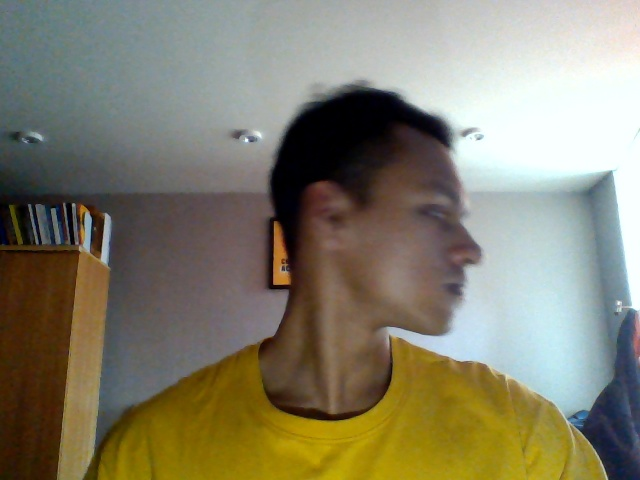no_mask: (358, 229, 485, 338)
